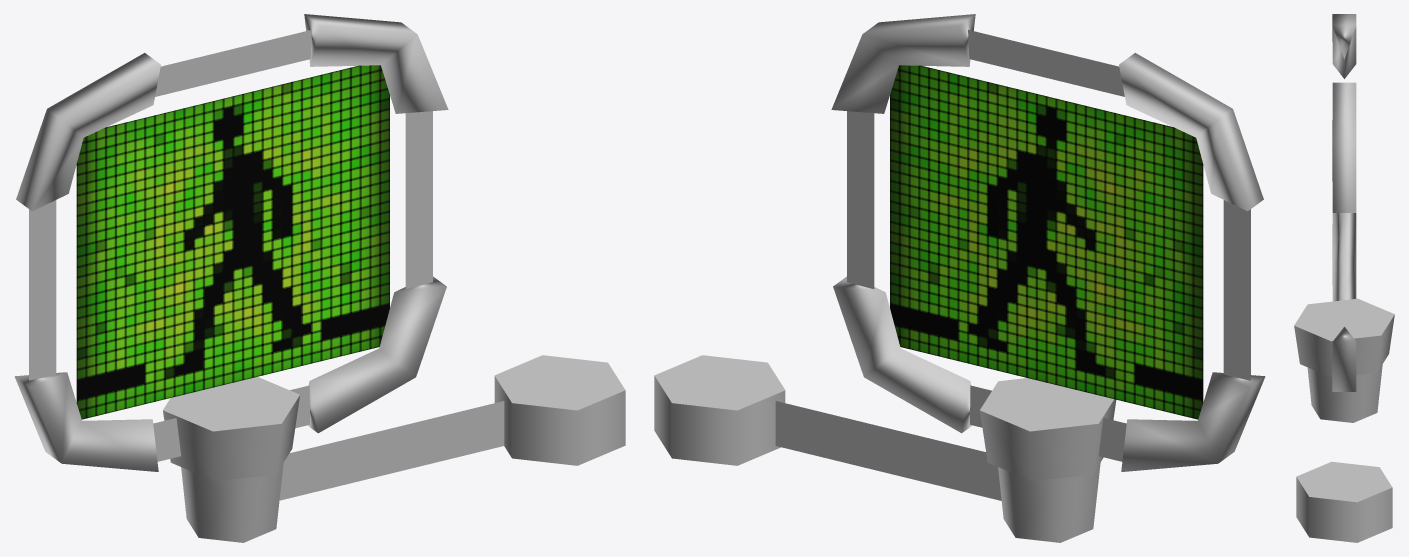
File: Streetlight2_LOD2.fbx
The picture shows the model from 3 angles, left to right: view 1: azimuth 30°, elevation 25°; view 2: azimuth 150°, elevation 25°; view 3: azimuth 270°, elevation 25°; orthographic projection. The views are drawn at different scales.
Parts seen in each view (by area): view 1: polySurface986; view 2: polySurface986; view 3: polySurface986.
Boxes of the visible parts, box(x1,y1,x2,y2) form: polySurface986: box(14, 14, 625, 542); polySurface986: box(654, 14, 1265, 542); polySurface986: box(1294, 14, 1394, 542).
Size of the model in its own units: 0.4544 by 0.3541 by 0.091.
